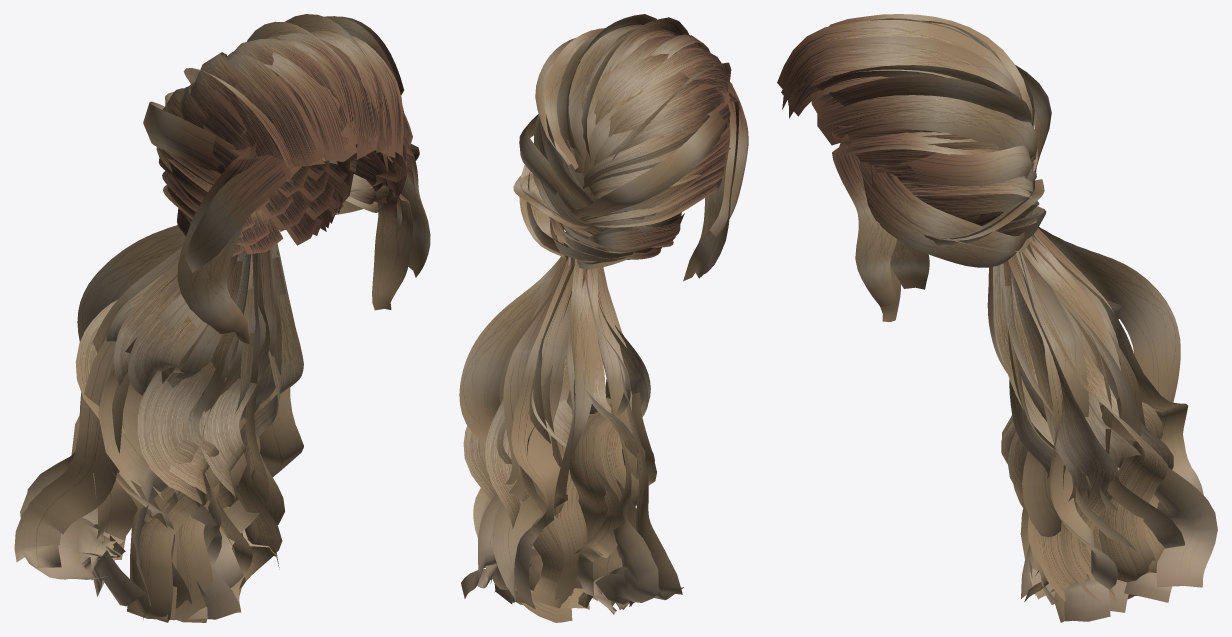
File: Hair13.fbx
The picture shows the model from 3 angles, left to right: view 1: azimuth 30°, elevation 25°; view 2: azimuth 150°, elevation 25°; view 3: azimuth 270°, elevation 25°; orthographic projection. The views are drawn at different scales.
Parts seen in each view (by area): view 1: haircard vol7 hair05; view 2: haircard vol7 hair05; view 3: haircard vol7 hair05.
Part boxes in pixels (left/top/right/bottom): haircard vol7 hair05: left=14, top=14, right=430, bottom=622; haircard vol7 hair05: left=459, top=14, right=748, bottom=622; haircard vol7 hair05: left=777, top=14, right=1217, bottom=622.
Size of the model in its own units: 25.44 by 53.95 by 36.15.
Materials: 1 (1 with a texture image).
